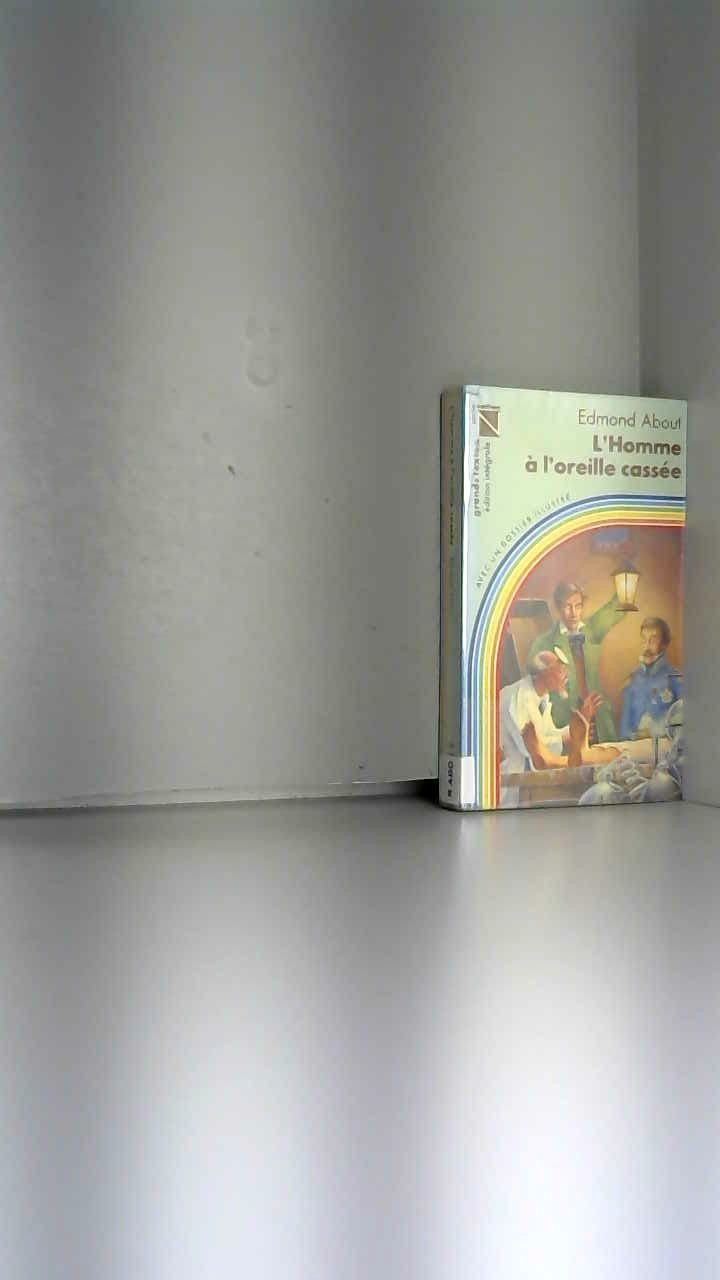book: (410, 360, 720, 901)
